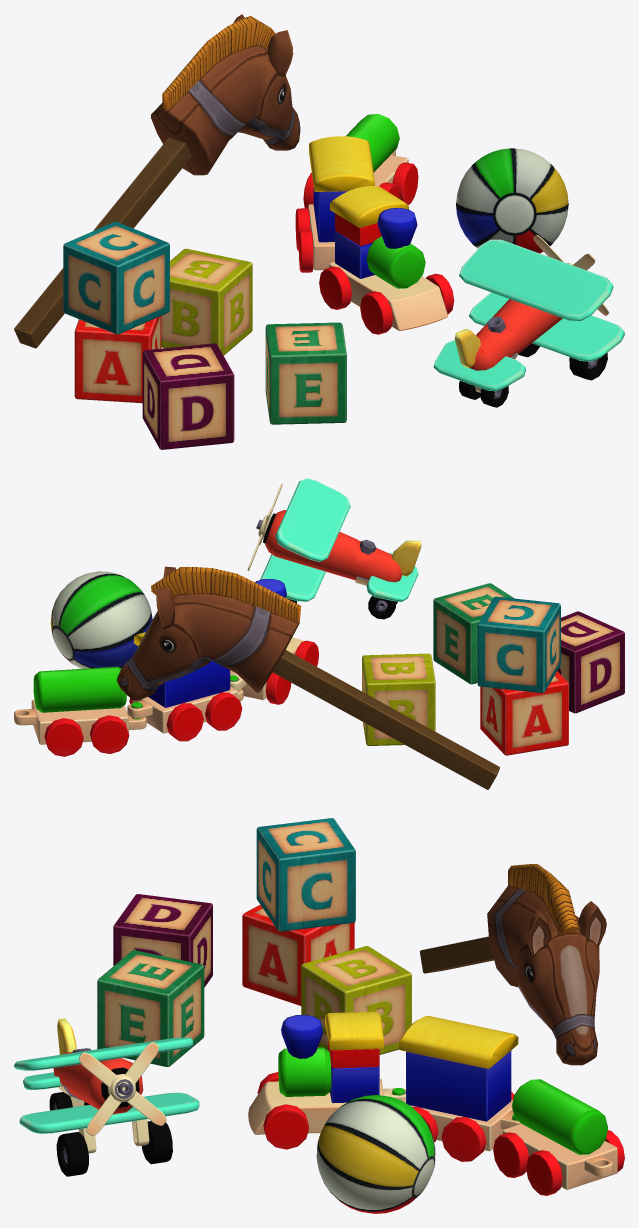
3 views of the same model, one above another, from view 1: azimuth 30°, elevation 25°; view 2: azimuth 150°, elevation 25°; view 3: azimuth 270°, elevation 25° (orthographic). The views are drawn at different scales.
Visible parts, largest first — view 1: woode_horse_mesh1, aiplane_mesh, train_mesh4, cube_C_mesh, ball_mesh, cube_D_mesh, cubes_mesh, cube_B_mesh, train_mesh2, cube_A_mesh, train_mesh3; view 2: woode_horse_mesh1, aiplane_mesh, train_mesh3, ball_mesh, cube_C_mesh, train_mesh2, cube_A_mesh, cube_D_mesh, cube_B_mesh, cubes_mesh, train_mesh4; view 3: woode_horse_mesh1, aiplane_mesh, train_mesh2, train_mesh4, ball_mesh, train_mesh3, cube_C_mesh, cubes_mesh, cube_B_mesh, cube_A_mesh, cube_D_mesh.
Part boxes in pixels (x1,y1,x2,y2): woode_horse_mesh1: (14, 14, 300, 348); aiplane_mesh: (433, 235, 624, 407); train_mesh4: (319, 186, 454, 334); cube_C_mesh: (63, 221, 169, 334); ball_mesh: (456, 148, 568, 253); cube_D_mesh: (142, 343, 234, 449); cubes_mesh: (265, 322, 346, 424); cube_B_mesh: (161, 248, 252, 355); train_mesh2: (295, 136, 374, 272); cube_A_mesh: (74, 316, 161, 403); train_mesh3: (303, 114, 418, 208); woode_horse_mesh1: (116, 566, 499, 789); aiplane_mesh: (247, 478, 421, 619); train_mesh3: (14, 666, 146, 756); ball_mesh: (50, 571, 152, 668); cube_C_mesh: (477, 596, 560, 693); train_mesh2: (127, 632, 243, 741); cube_A_mesh: (480, 671, 568, 755); cube_D_mesh: (557, 611, 624, 713); cube_B_mesh: (362, 653, 435, 745); cubes_mesh: (433, 583, 514, 684); train_mesh4: (230, 579, 318, 704); woode_horse_mesh1: (420, 864, 606, 1065); aiplane_mesh: (14, 1018, 199, 1176); train_mesh2: (392, 1016, 521, 1161); train_mesh4: (248, 1011, 405, 1149); ball_mesh: (316, 1095, 435, 1213); train_mesh3: (493, 1079, 624, 1195); cube_C_mesh: (256, 818, 355, 931); cubes_mesh: (97, 950, 204, 1066); cube_B_mesh: (301, 946, 411, 1054); cube_A_mesh: (242, 905, 354, 1005); cube_D_mesh: (113, 894, 212, 987).
Bounding box in the file's own units: 157 × 62.87 × 150.
5 materials, 5 textured.
